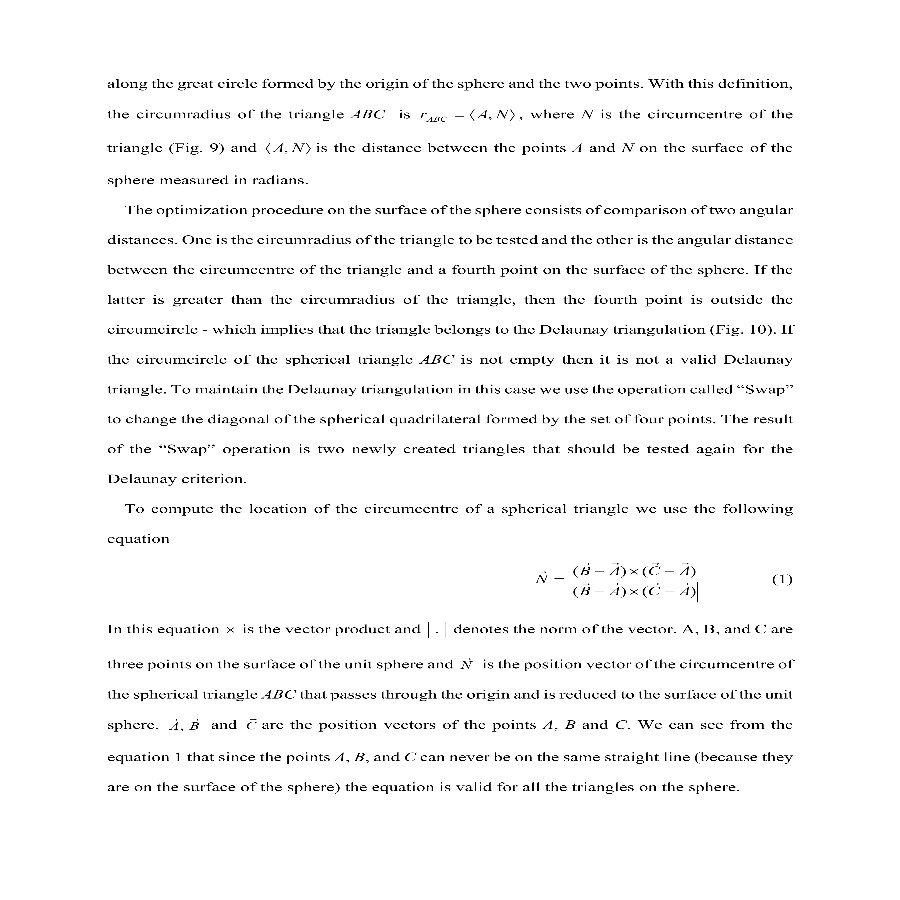eq: (527, 559, 703, 609)
